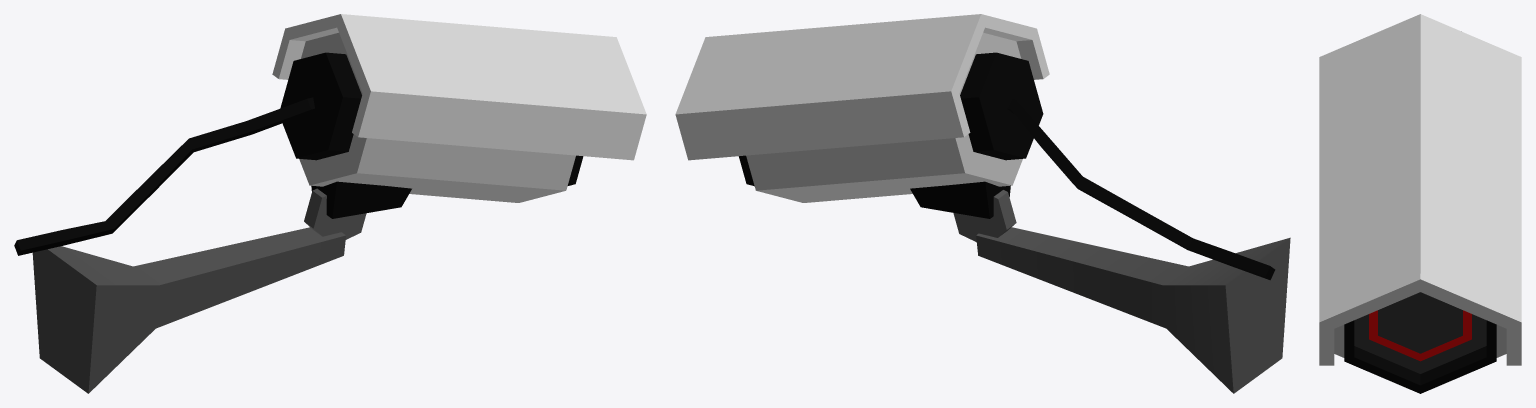
File: camera_0.fbx
3 views of the same model, side by side, from view 1: azimuth 30°, elevation 25°; view 2: azimuth 150°, elevation 25°; view 3: azimuth 270°, elevation 25° (orthographic). The views are drawn at different scales.
Visible parts, largest first — view 1: polySurface2; view 2: polySurface2; view 3: polySurface2.
Boxes of the visible parts, x1,y1,x2,y2 form: polySurface2: [14, 14, 646, 393]; polySurface2: [675, 14, 1290, 393]; polySurface2: [1319, 14, 1521, 393].
Size of the model in its own units: 0.6624 by 0.3199 by 0.1688.
